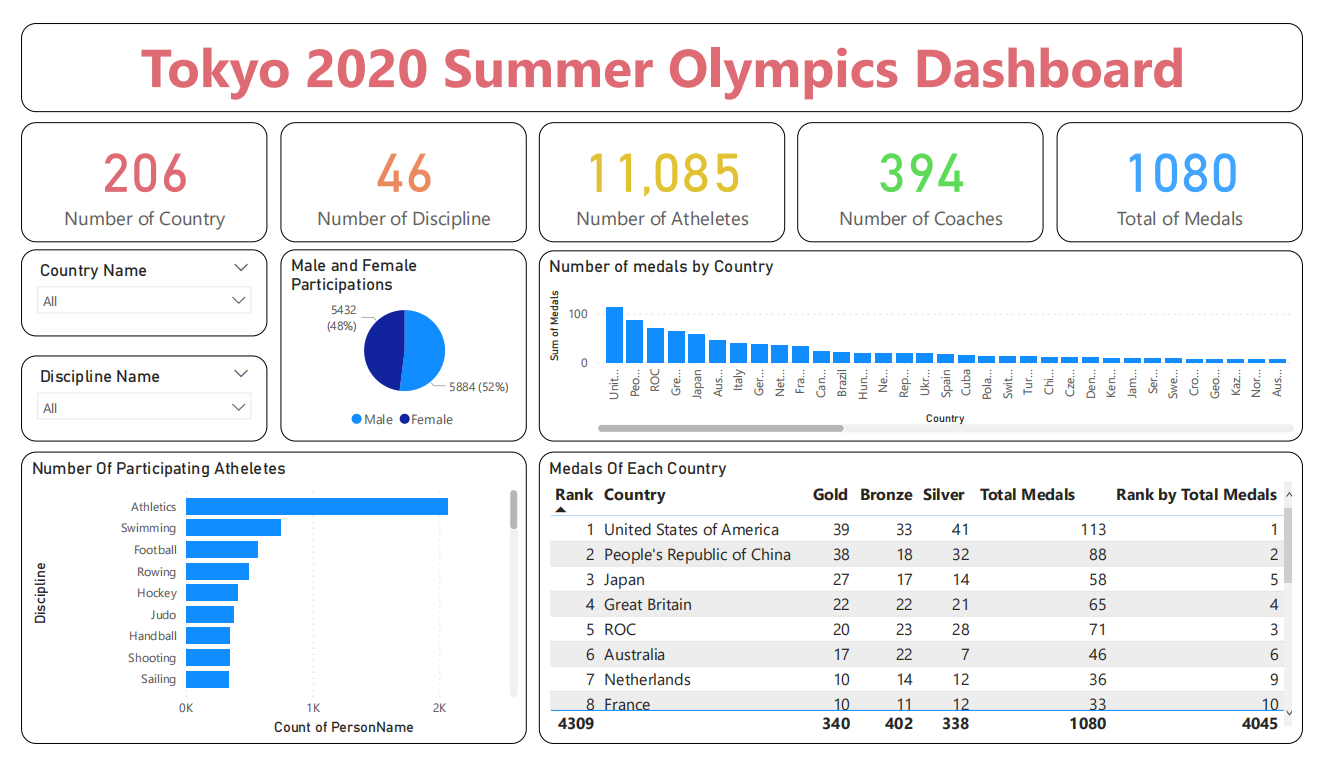

The dashboard page shown, as its layout file describes it:
{"tool":"powerbi","page":{"name":"TokyoOlympicDashboard","canvas":[1280,720],"ordinal":0},"visuals":[{"type":"card","title":"á","fields":{"Values":["CountNonNull(athletes.PersonName)"]},"box":[517.1,99,245.7,119.8],"z":0},{"type":"textbox","box":[0,0,1280.3,89.2],"z":1000},{"type":"card","title":"á","fields":{"Values":["CountNonNull(coaches.Name)"]},"box":[775,99,245.7,119.8],"z":2000},{"type":"card","title":"á","fields":{"Values":["Sum(medals.Total)"]},"box":[1034.2,99,245.7,119.8],"z":3000},{"type":"card","title":"á","fields":{"Values":["Count(athletes.Country)"]},"box":[0,99,245.7,119.8],"z":4000},{"type":"card","title":"á","fields":{"Values":["Count(athletes.Discipline)"]},"box":[259.2,99,245.7,119.8],"z":5000},{"type":"pieChart","title":"Male and Female Participations","fields":{"Y":["Sum(entriesgender.Male)","Sum(entriesgender.Female)"]},"box":[259.2,226.1,245.7,191.9],"z":6000},{"type":"clusteredColumnChart","title":"Number of medals by Country","fields":{"Category":["medals.TeamCountry"],"Y":["Sum(medals.Total)"]},"box":[517.1,227.4,762.8,190.7],"z":7000},{"type":"clusteredBarChart","title":"Number Of Participating Atheletes","fields":{"Category":["athletes.Discipline"],"Y":["CountNonNull(athletes.PersonName)"]},"box":[0,427.8,504.9,292.2],"z":8000},{"type":"slicer","fields":{"Values":["athletes.Discipline"]},"box":[0,331.5,245.7,86.8],"z":9000},{"type":"slicer","fields":{"Values":["athletes.Country"]},"box":[0,226.4,245.7,86.8],"z":10000},{"type":"tableEx","title":"Medals Of Each Country","fields":{"Values":["Sum(medals.Rank)","medals.TeamCountry","Sum(medals.Gold)","Sum(medals.Bronze)","Sum(medals.Silver)","Sum(medals.Total)","Sum(medals.Rank_by_Total)"]},"box":[517.1,427.8,762.8,292.2],"z":11000}]}

Visuals, with their boxes in screenshot pixels (x1, y1, x2, y2), scaled from the page's 1280x720 canvas onto the 1325x763 screenshot:
"á" card: select_region(535, 105, 790, 232)
textbox: select_region(0, 0, 1324, 95)
"á" card: select_region(802, 105, 1057, 232)
"á" card: select_region(1071, 105, 1324, 232)
"á" card: select_region(0, 105, 254, 232)
"á" card: select_region(268, 105, 523, 232)
"Male and Female Participations" pieChart: select_region(268, 240, 523, 443)
"Number of medals by Country" clusteredColumnChart: select_region(535, 241, 1324, 443)
"Number Of Participating Atheletes" clusteredBarChart: select_region(0, 453, 523, 762)
slicer - athletes.Discipline: select_region(0, 351, 254, 443)
slicer - athletes.Country: select_region(0, 240, 254, 332)
"Medals Of Each Country" tableEx: select_region(535, 453, 1324, 762)
